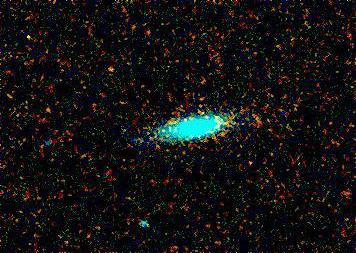star: (97, 53, 127, 83)
